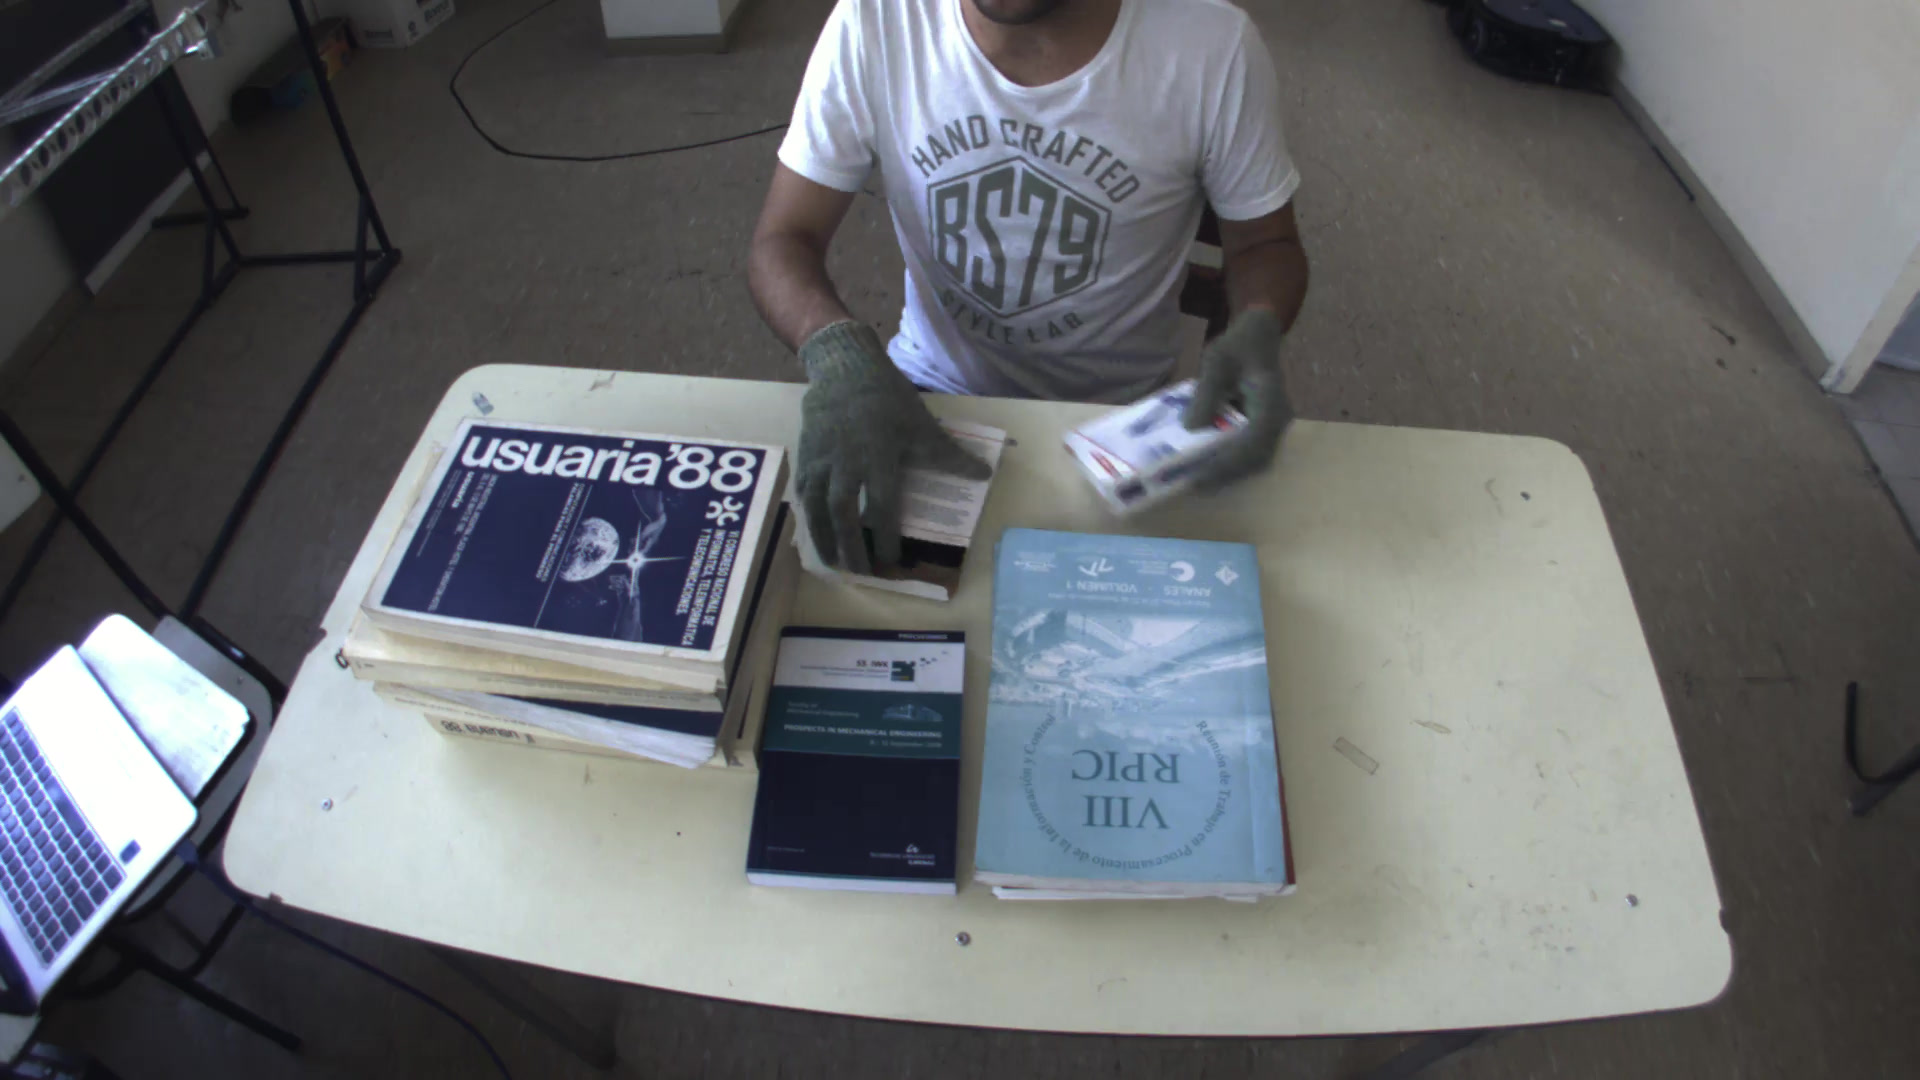hand: (764, 309, 978, 578), (1100, 299, 1313, 518)
